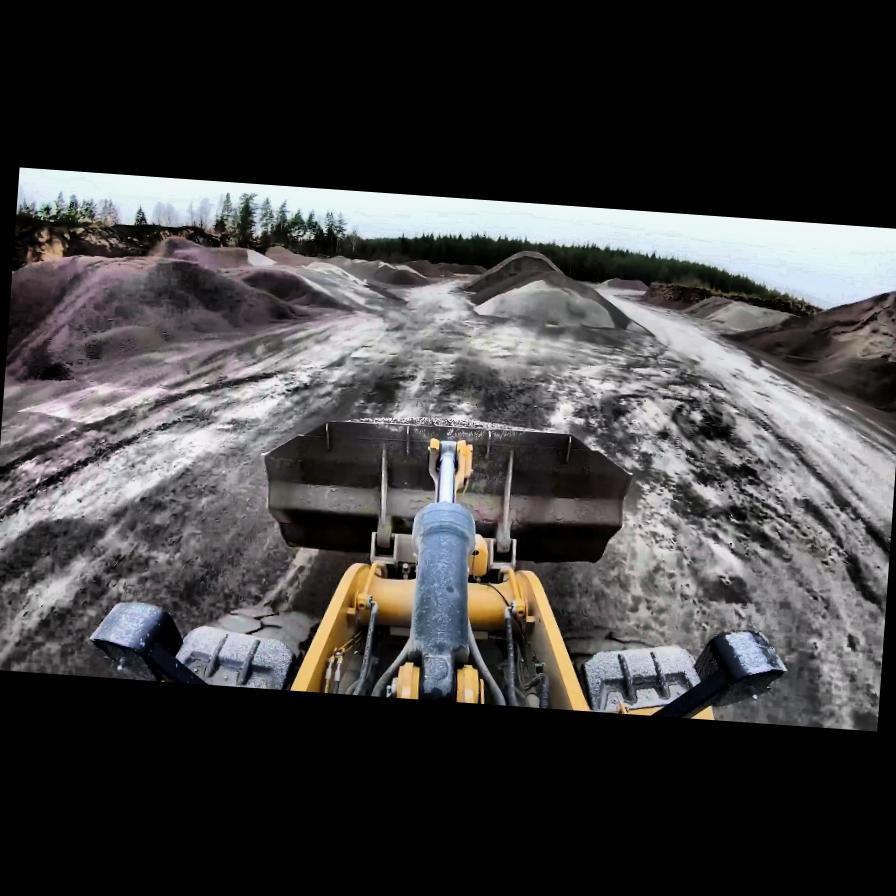anchor: (424, 435, 474, 499)
pile of gravel: (5, 232, 350, 404), (710, 271, 896, 429), (461, 246, 662, 332), (167, 237, 378, 318), (328, 252, 427, 286), (321, 252, 358, 266)
